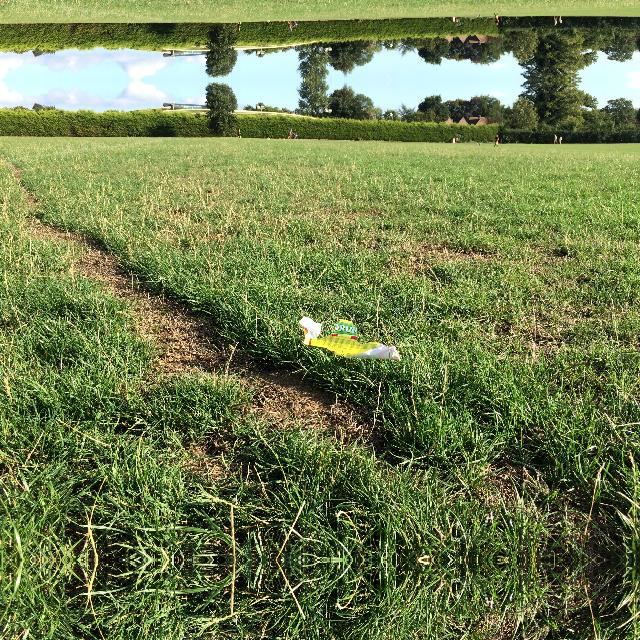Plastic: (295, 312, 403, 366)
